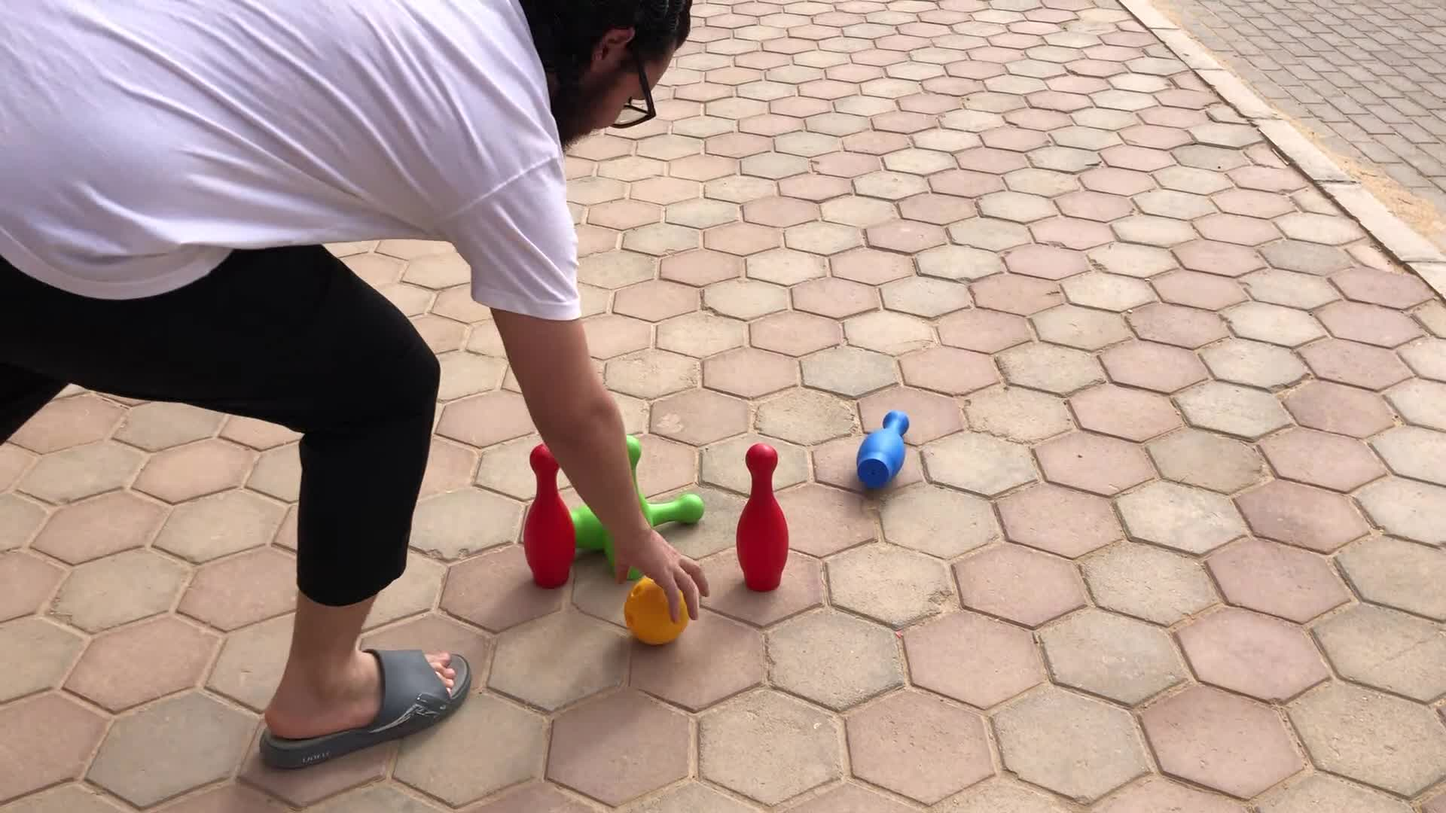pin: (737, 443, 789, 592), (523, 442, 575, 587), (857, 412, 909, 493)
